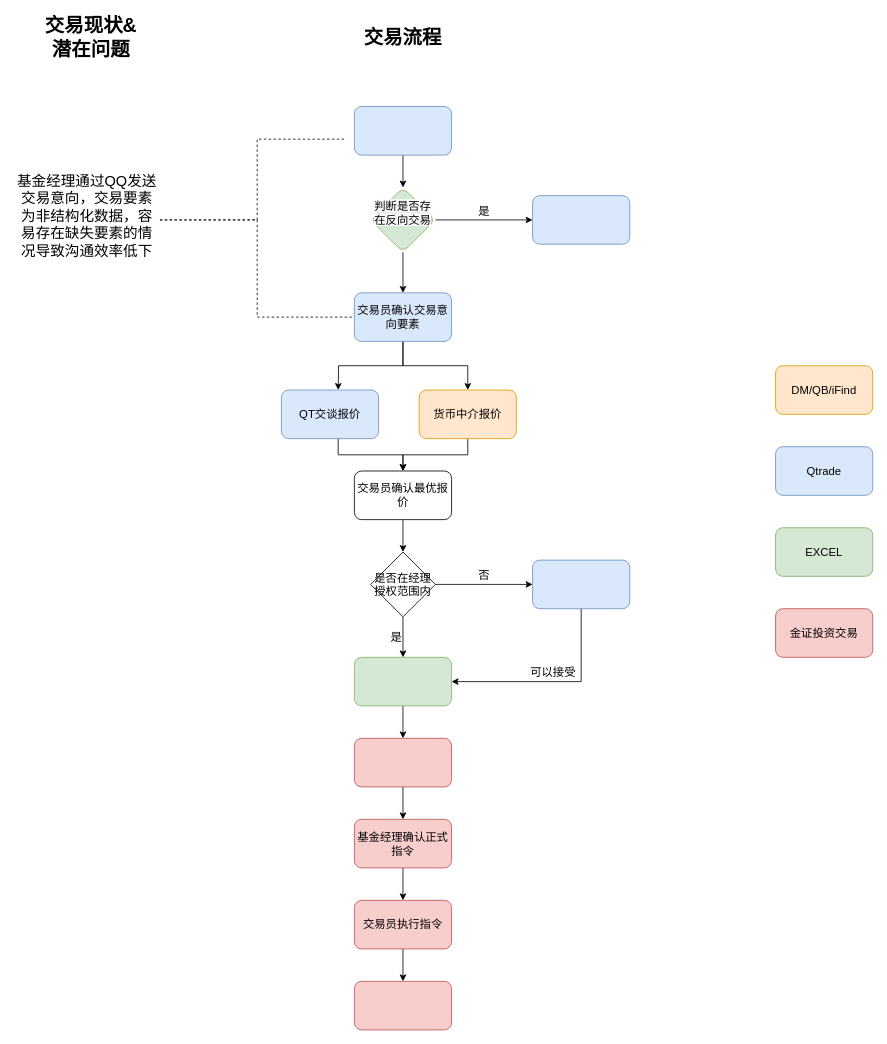
Some shapes in this 887 by 1044 pixel diagram are drawn without their labels. Each missing label, with the centre of its shape:
反馈基金经理: (581,219)
发送询价指令: (403,762)
和基金经理确认当前最优报价是否可以接收: (581,584)
基金经理向交易员发送现券买卖交易意向: (403,130)
建立交易台账: (403,681)
成交确认: (403,1005)
